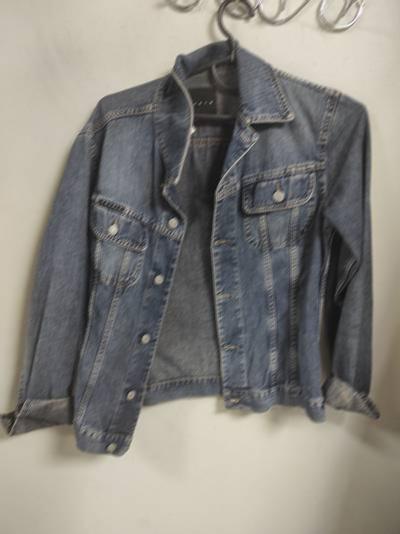Blazer: (16, 45, 382, 458)
